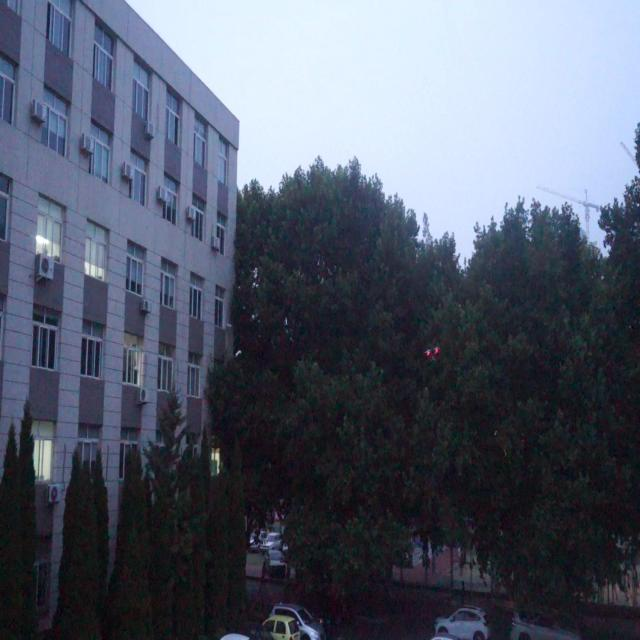drone: (421, 342, 442, 362)
